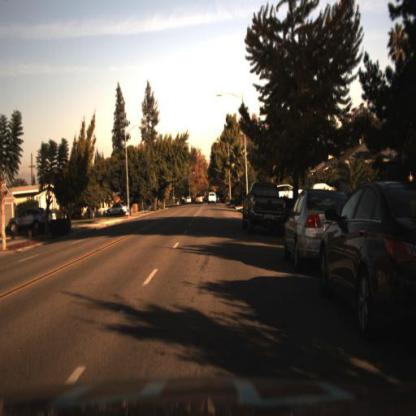car: (320, 182, 416, 339), (283, 189, 351, 270), (280, 182, 322, 274), (240, 181, 285, 238), (5, 203, 51, 243), (9, 208, 56, 239), (273, 181, 303, 205), (308, 178, 339, 194), (106, 202, 129, 219), (208, 191, 220, 207)
